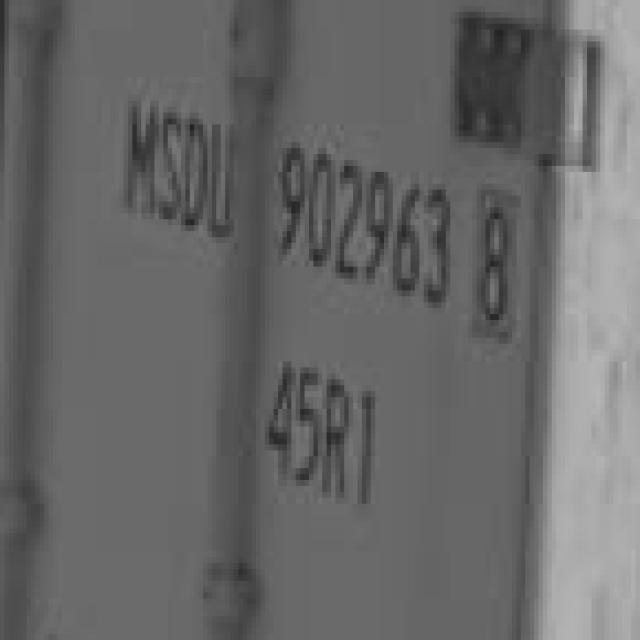dv: (470, 179, 518, 339)
owner: (110, 85, 237, 248)
serial: (272, 129, 456, 316)
size: (258, 356, 390, 516)
